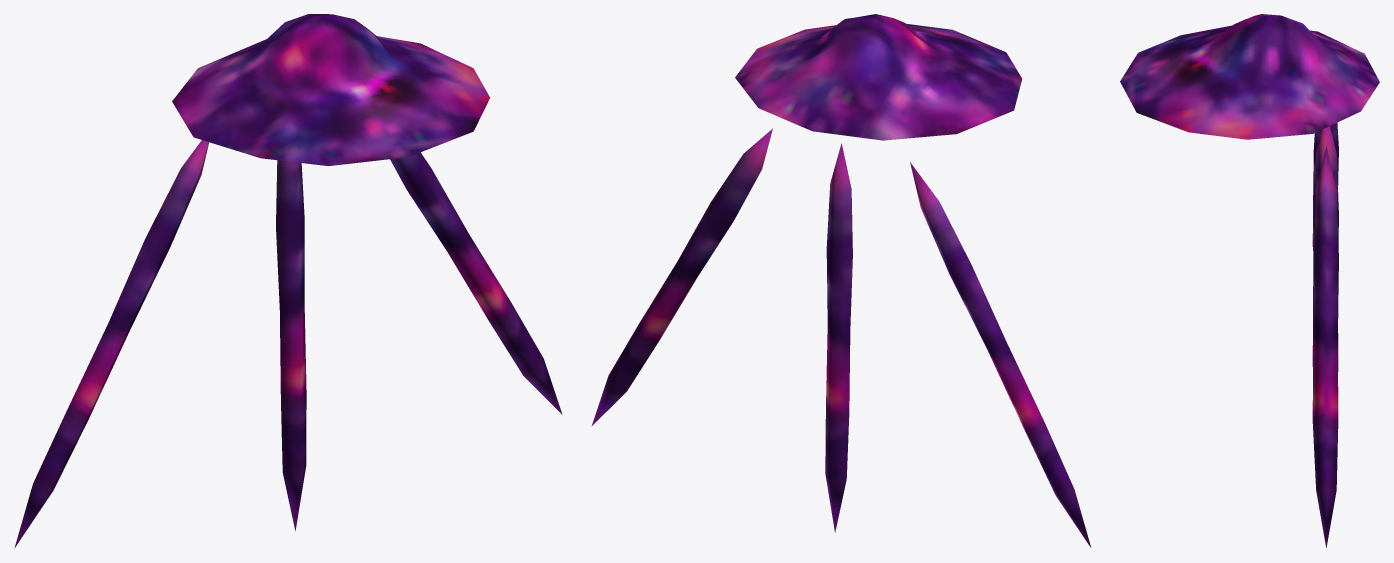
The picture shows the model from 3 angles, left to right: view 1: azimuth 30°, elevation 25°; view 2: azimuth 150°, elevation 25°; view 3: azimuth 270°, elevation 25°; orthographic projection. The views are drawn at different scales.
Visible parts, largest first — view 1: frame_0; view 2: frame_0; view 3: frame_0.
Part boxes in pixels (x1,y1,x2,y2): frame_0: (14,14,562,548); frame_0: (592,14,1091,547); frame_0: (1120,14,1379,547).
Bounding box in the file's own units: 3.01 × 2.84 × 1.45.
Materials: 1 (1 with a texture image).
